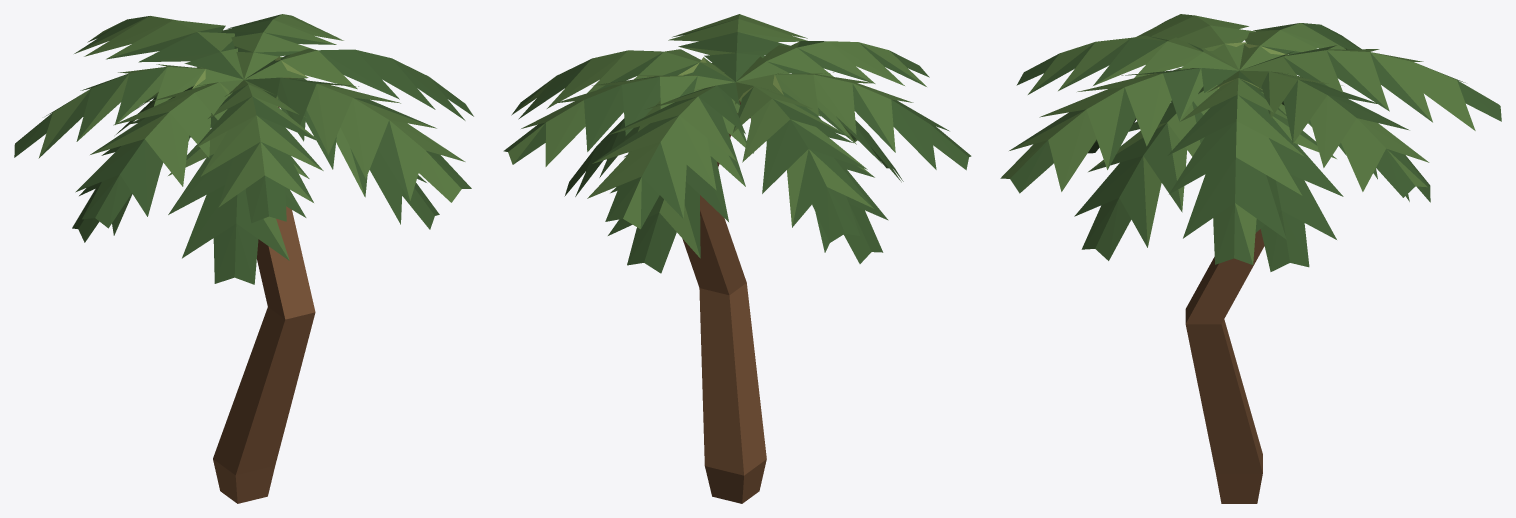
The model's file is tree_palmBend.glb.
3 views of the same model, side by side, from view 1: azimuth 30°, elevation 25°; view 2: azimuth 150°, elevation 25°; view 3: azimuth 270°, elevation 25° (orthographic). The views are drawn at different scales.
Parts seen in each view (by area): view 1: tree_palmBend.002; view 2: tree_palmBend.002; view 3: tree_palmBend.002.
Boxes of the visible parts, x1=… form: tree_palmBend.002: x1=14, y1=14, x2=473, y2=503; tree_palmBend.002: x1=503, y1=14, x2=971, y2=503; tree_palmBend.002: x1=1000, y1=14, x2=1501, y2=503.
Size of the model in its own units: 2.02 by 2 by 2.05.
